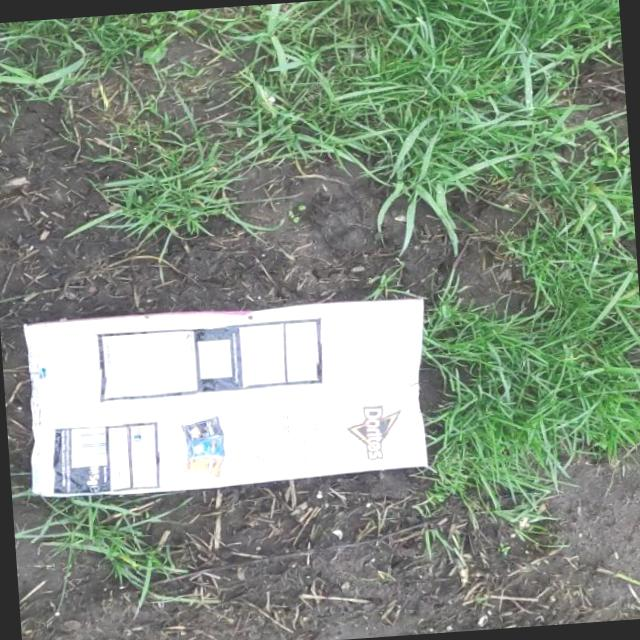Plastic: (8, 284, 442, 506)
